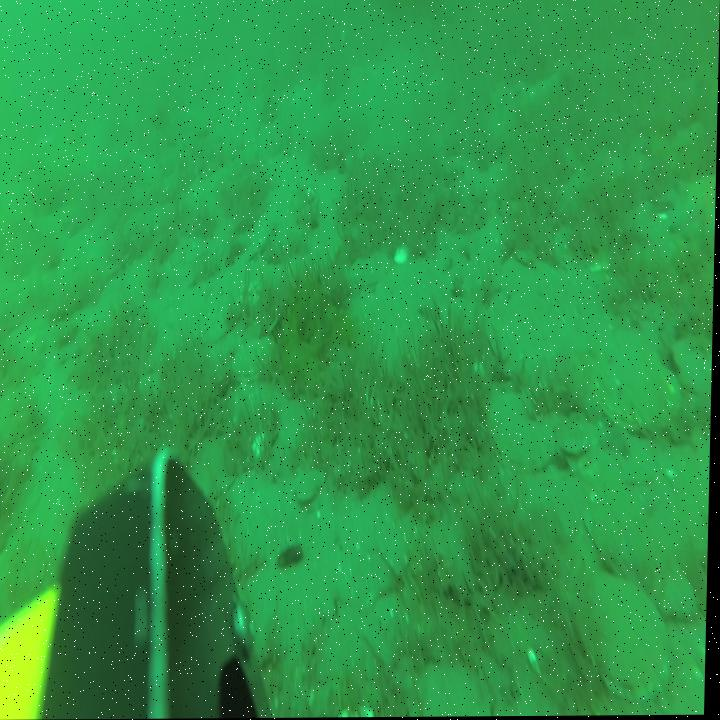scallop: (581, 569, 673, 698), (597, 344, 681, 438), (496, 414, 557, 473), (674, 330, 714, 401), (235, 337, 279, 386), (666, 571, 697, 624), (352, 250, 392, 287), (295, 470, 328, 503), (566, 427, 590, 459)
starfish: (667, 171, 717, 237)
